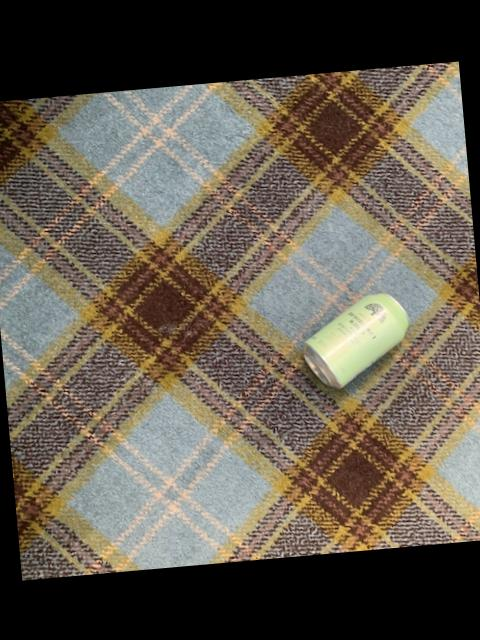metal: (304, 293, 410, 388)
